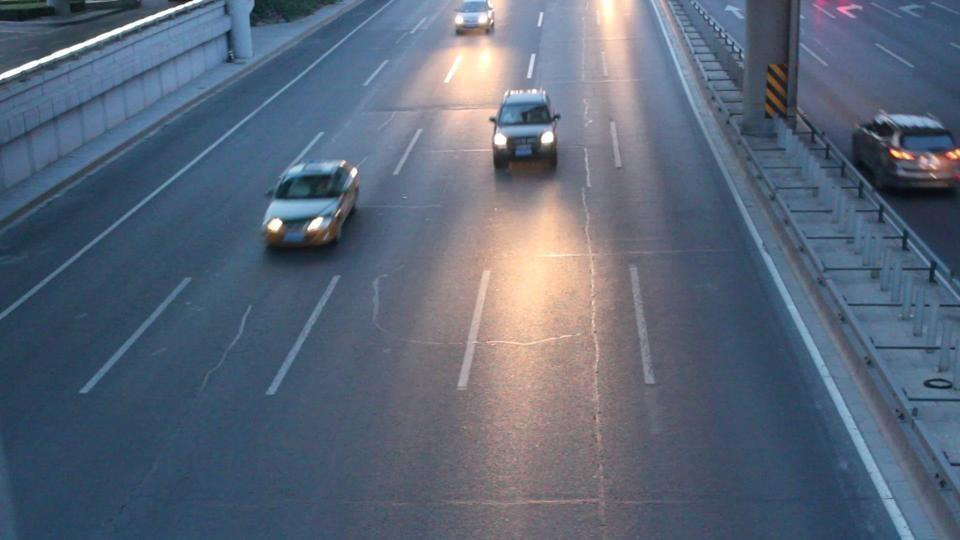car: (850, 109, 960, 194), (261, 159, 362, 249), (489, 90, 562, 170), (453, 0, 495, 35)
